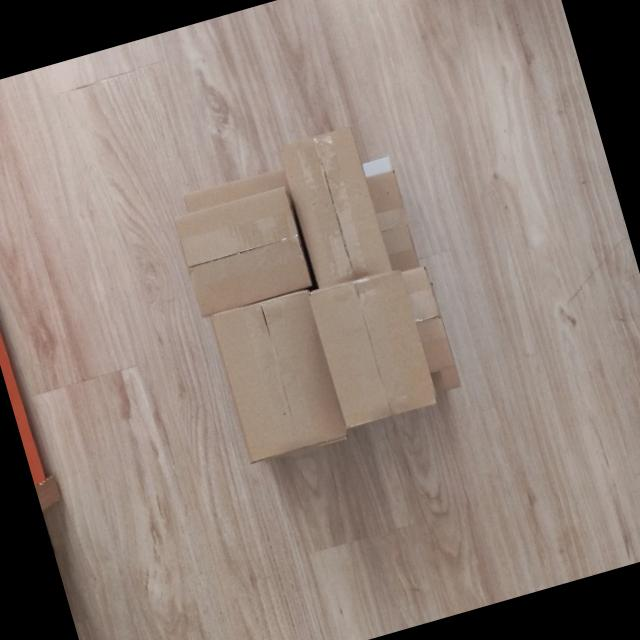box: (203, 284, 355, 472), (299, 262, 444, 434), (272, 118, 394, 290), (168, 182, 316, 320)
